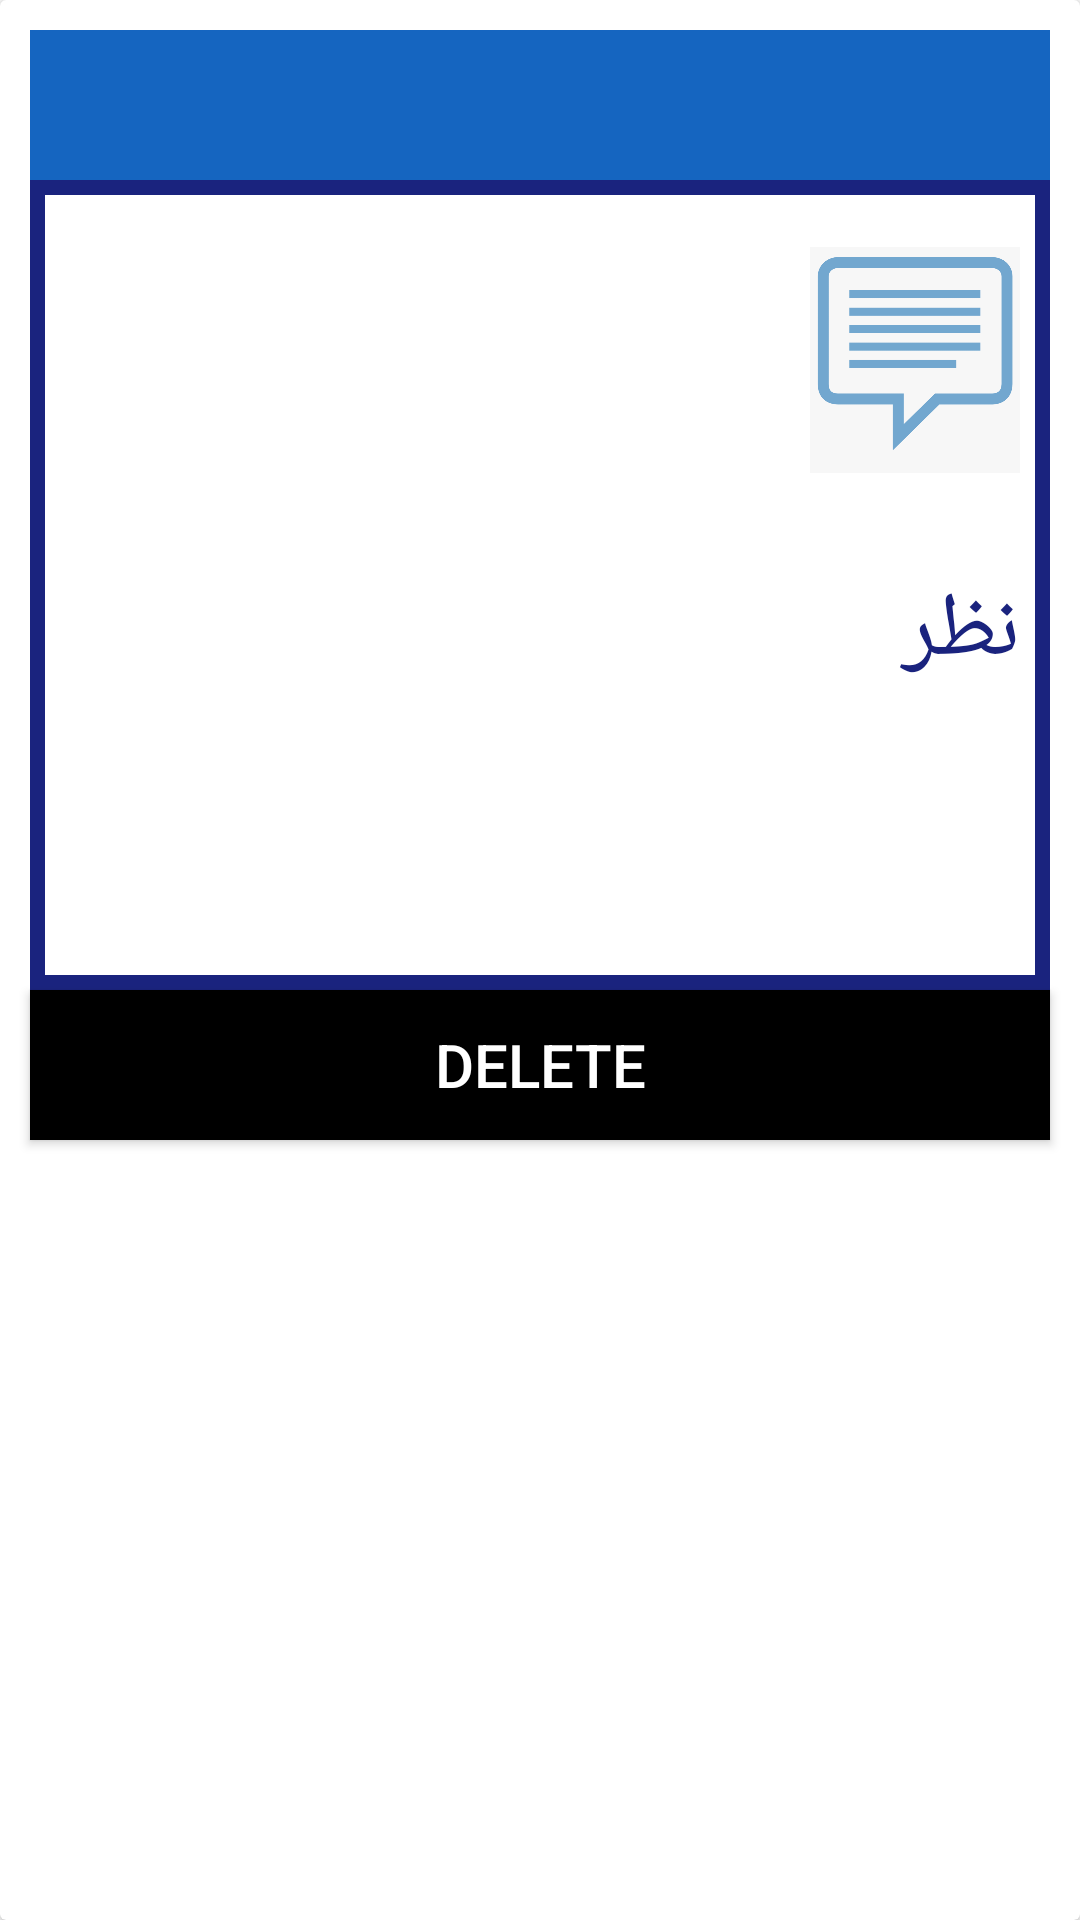

Named icons in this screenshot (1080×1920) and their centers, point (x, y):
listcomments: point (915, 353)
